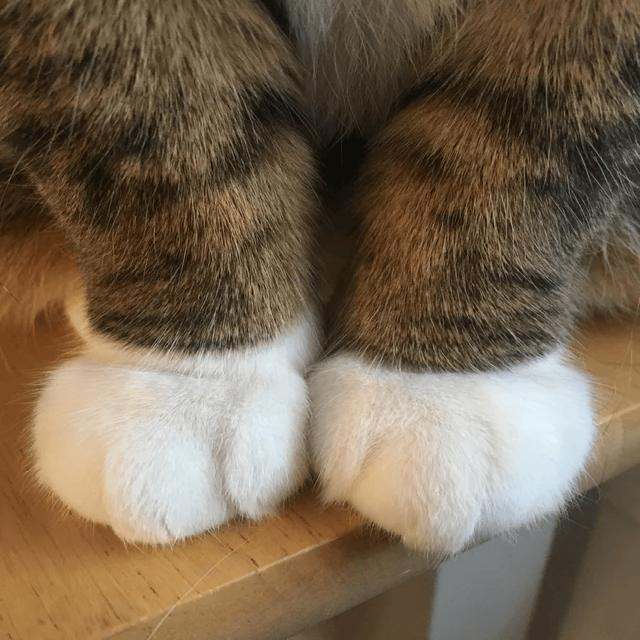Healthy skin: (42, 14, 271, 300), (406, 24, 586, 283), (351, 338, 582, 493), (80, 368, 226, 484)
